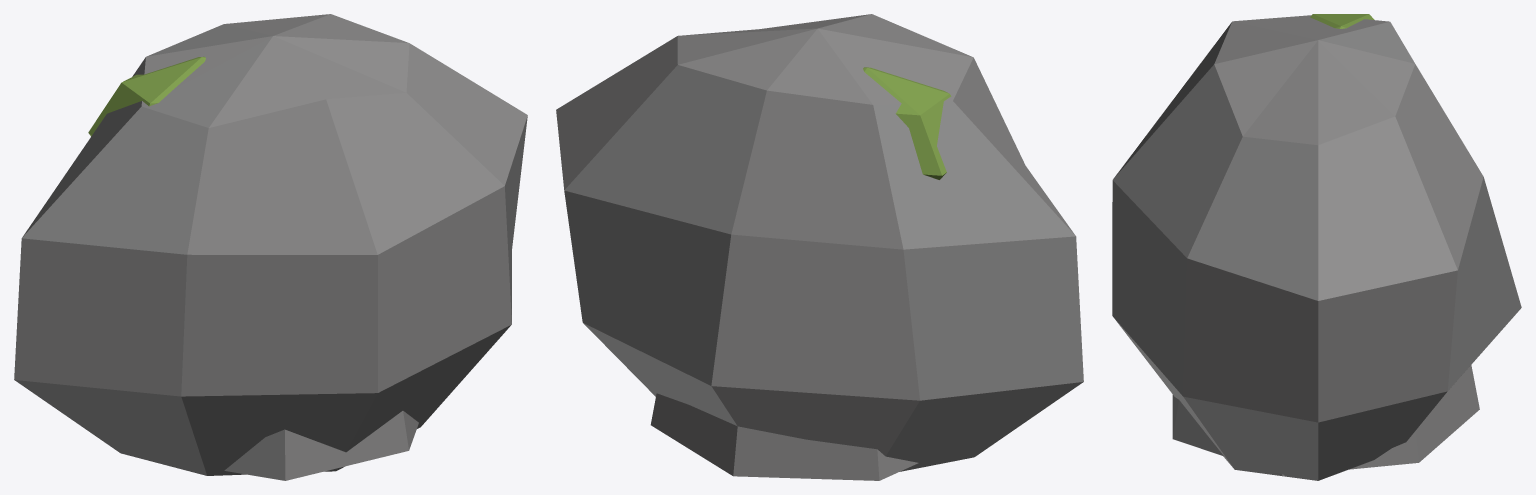
The model's file is stone_l.glb.
The picture shows the model from 3 angles, left to right: view 1: azimuth 30°, elevation 25°; view 2: azimuth 150°, elevation 25°; view 3: azimuth 270°, elevation 25°; orthographic projection. The views are drawn at different scales.
Parts seen in each view (by area): view 1: Stone; view 2: Stone; view 3: Stone.
Part boxes in pixels (x1=…): Stone: x1=14, y1=14, x2=527, y2=480; Stone: x1=556, y1=14, x2=1083, y2=480; Stone: x1=1112, y1=14, x2=1521, y2=480.
Bounding box in the file's own units: 21.47 × 16.8 × 15.07.
